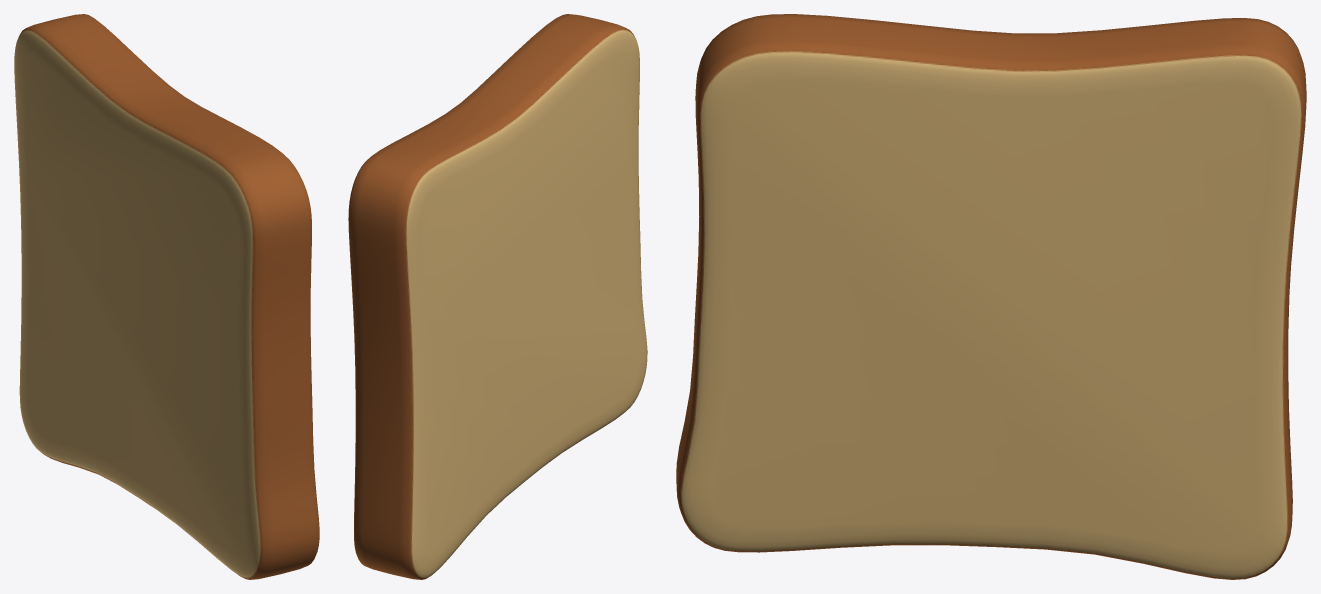
Rendered from toast_gl3.gltf.
3 views of the same model, side by side, from view 1: azimuth 30°, elevation 25°; view 2: azimuth 150°, elevation 25°; view 3: azimuth 270°, elevation 25° (orthographic). The views are drawn at different scales.
Visible parts, largest first — view 1: Toast; view 2: Toast; view 3: Toast.
Boxes of the visible parts, left/top/right/bottom form: Toast: left=14, top=14, right=319, bottom=579; Toast: left=348, top=14, right=647, bottom=579; Toast: left=676, top=14, right=1306, bottom=579.
Size of the model in its own units: 0.0662 by 0.4153 by 0.4424.
Materials: 1 (1 with a texture image).
